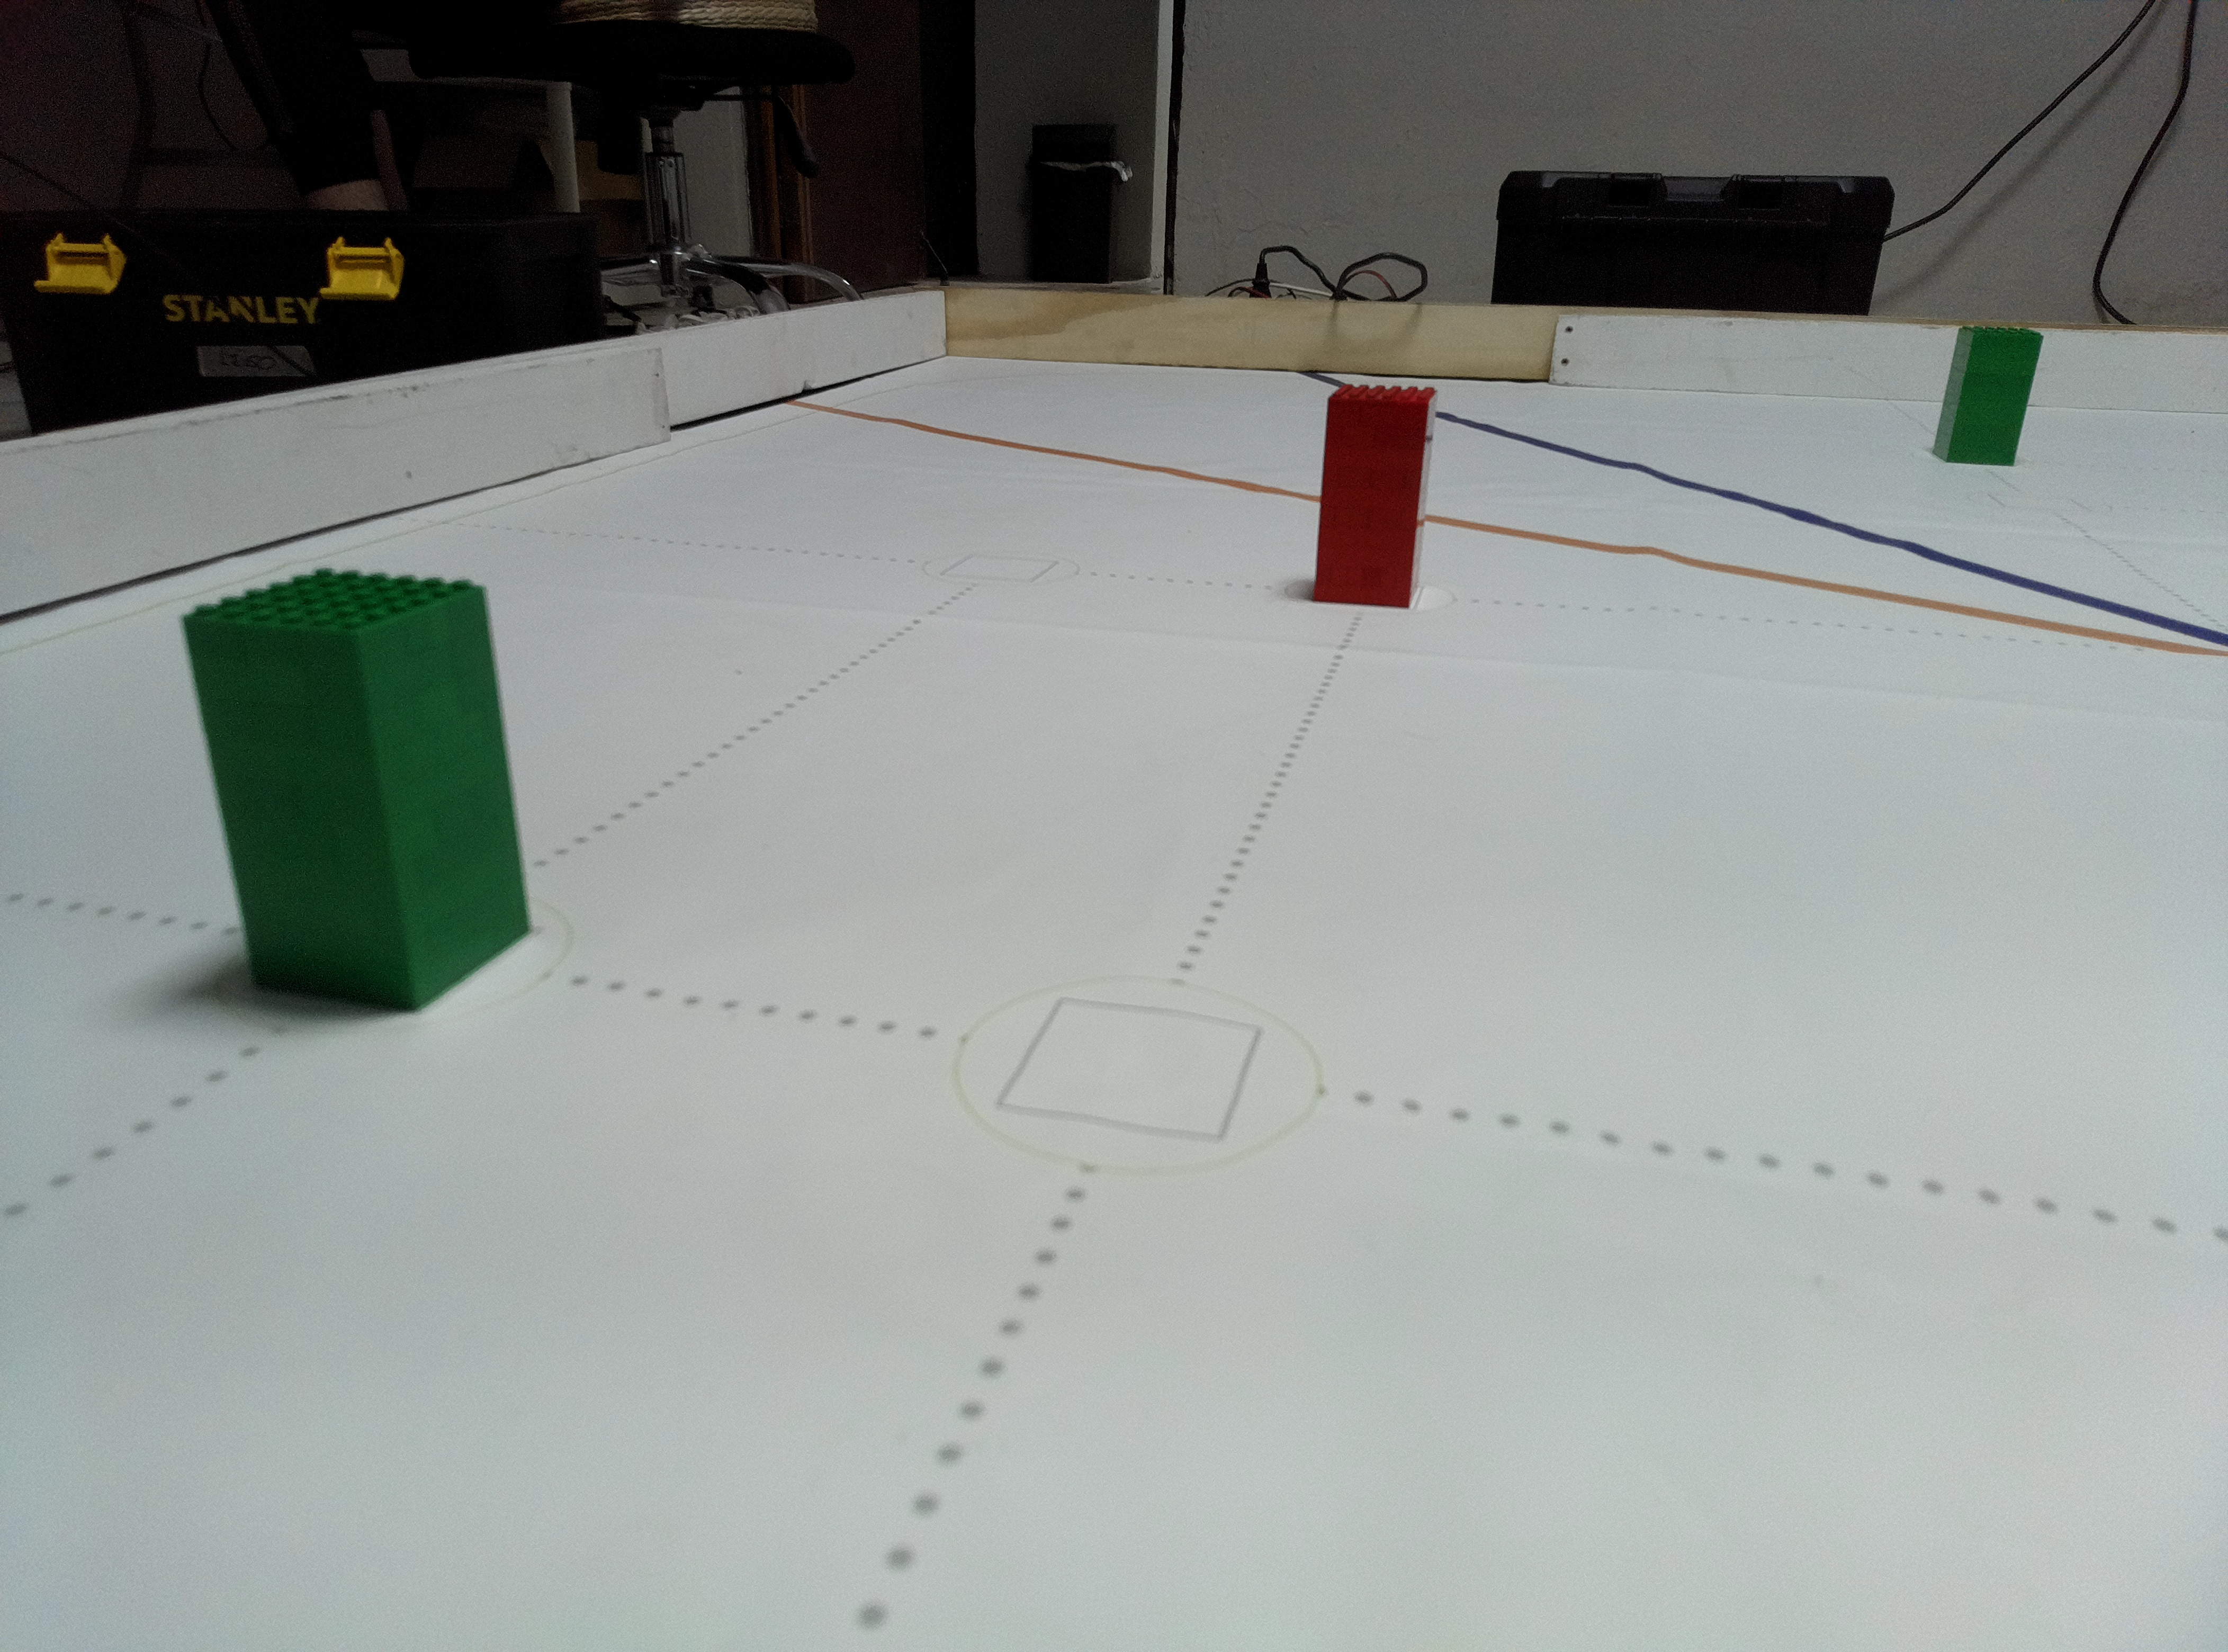greenbox: (180, 564, 541, 1008), (1931, 326, 2046, 469)
redbox: (1310, 382, 1438, 613)
